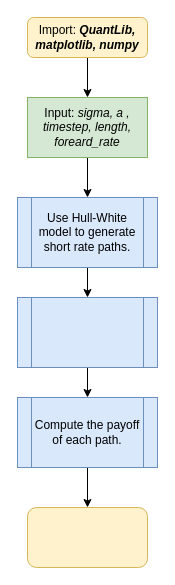
Some shapes in this 175 by 585 pixel diagram are drawn without their labels. The shapes that lost their labels are listed below. From the top down, each one's centre as x and y in pixels, then its label:
At (x=87, y=332): "Plug the obtained short rates into the GBM to simulate the stock price.".
At (x=87, y=537): "Compute and output the Call & Put price .".
